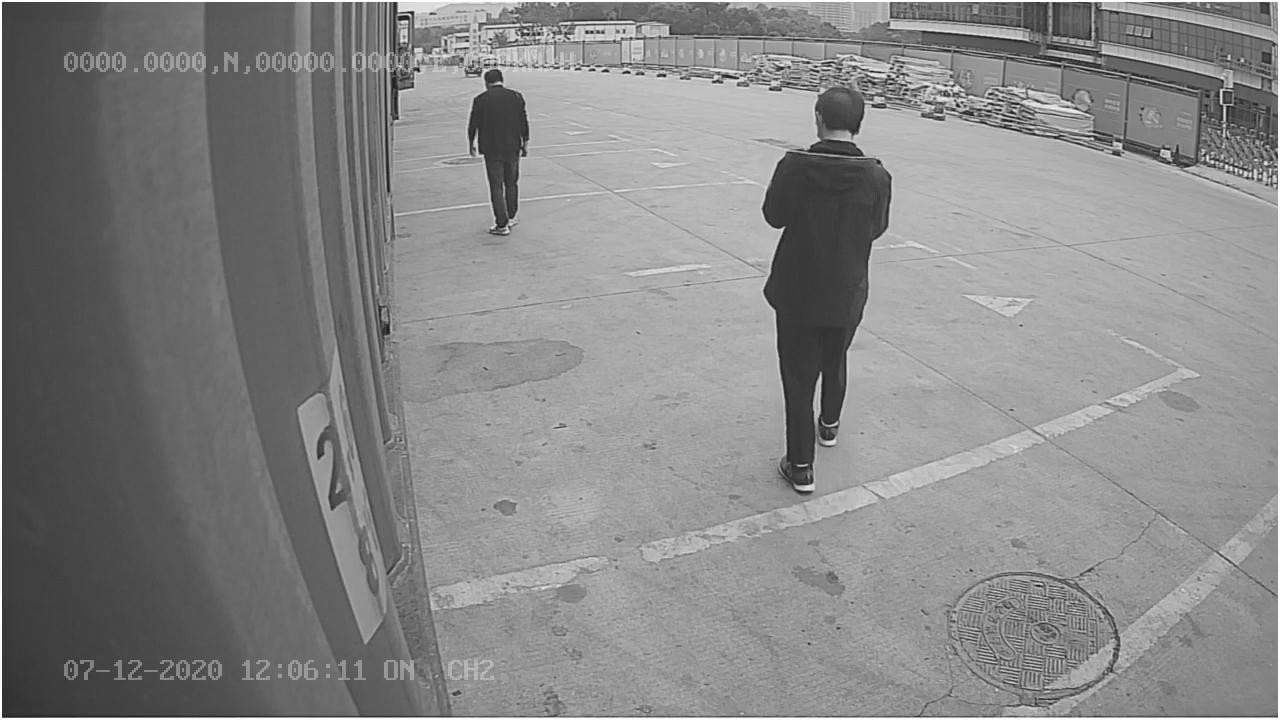person: (760, 82, 909, 497)
